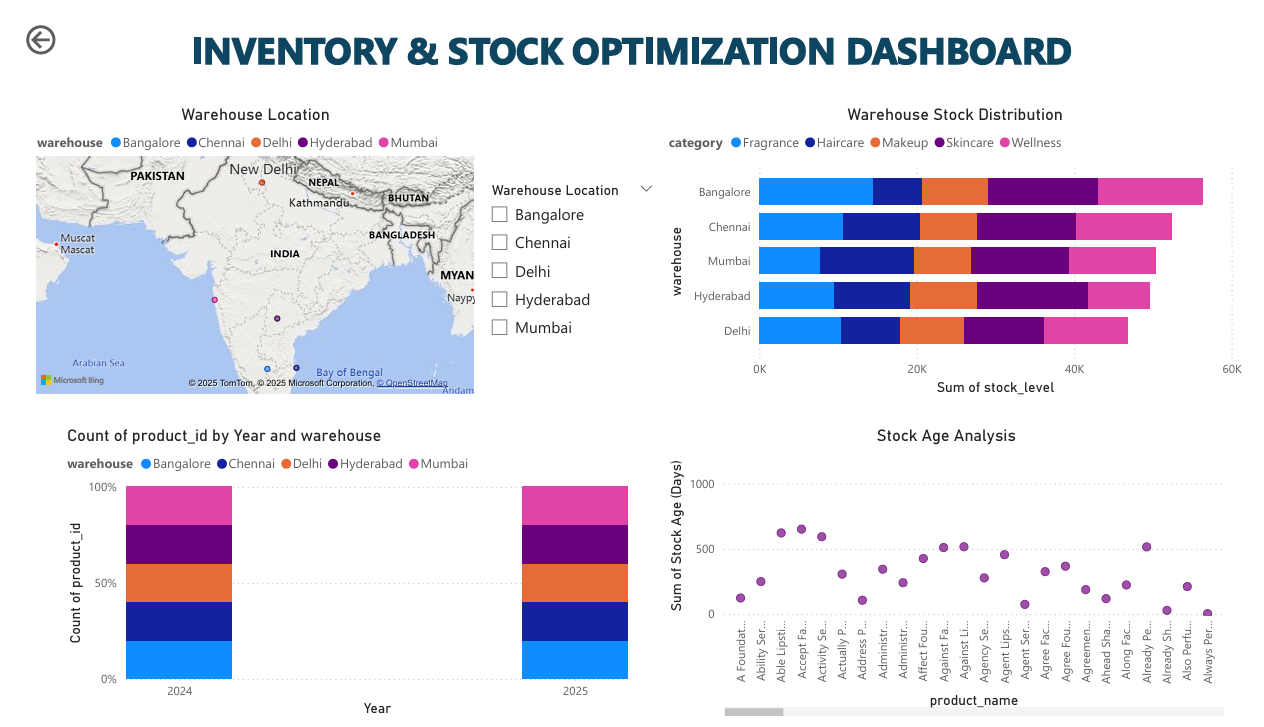

This screenshot's page, from the dashboard's own definition file:
{"tool":"powerbi","page":{"name":"Page 2","canvas":[1280,720],"ordinal":1},"visuals":[{"type":"textbox","box":[9.6,0,1224.1,75.5],"z":0},{"type":"tableEx","fields":{"Values":["products.product_name","Sum(inventory.stock_level)","inventory.is_critical_stock","inventory.restock_date.Variation.Date Hierarchy.Year","inventory.restock_date.Variation.Date Hierarchy.Quarter","inventory.restock_date.Variation.Date Hierarchy.Month","inventory.restock_date.Variation.Date Hierarchy.Day"]},"box":[42.4,75.7,617.8,331.6],"z":1000},{"type":"actionButton","box":[0,0,100,40],"z":2000},{"type":"barChart","title":"Warehouse Stock Distribution","fields":{"Category":["inventory.warehouse"],"Y":["Sum(inventory.stock_level)"],"Series":["products.category"]},"box":[660.2,86.3,598.1,302.8],"z":3000},{"type":"scatterChart","title":"Stock Age Analysis","fields":{"X":["products.product_name"],"Y":["Sum(inventory.Stock Age (Days))"]},"box":[660.2,416.4,579.9,302.8],"z":4000},{"type":"hundredPercentStackedColumnChart","fields":{"Category":["inventory.restock_date.Variation.Date Hierarchy.Year","inventory.restock_date.Variation.Date Hierarchy.Quarter","inventory.restock_date.Variation.Date Hierarchy.Month","inventory.restock_date.Variation.Date Hierarchy.Day"],"Y":["CountNonNull(products.product_id)"],"Series":["inventory.warehouse"]},"box":[42.4,416.4,586,302.8],"z":5000}]}

Visuals, with their boxes in screenshot pixels (x1, y1, x2, y2), scaled from the page's 1280x720 canvas onto the 1264x727 screenshot:
textbox: (x1=9, y1=0, x2=1218, y2=76)
tableEx - products.product_name x Sum(inventory.stock_level): (x1=42, y1=76, x2=652, y2=411)
actionButton: (x1=0, y1=0, x2=99, y2=40)
"Warehouse Stock Distribution" barChart: (x1=652, y1=87, x2=1243, y2=393)
"Stock Age Analysis" scatterChart: (x1=652, y1=420, x2=1225, y2=726)
hundredPercentStackedColumnChart - inventory.restock_date.Variation.Date Hierarchy.Year x inventory.restock_date.Variation.Date Hierarchy.Quarter: (x1=42, y1=420, x2=621, y2=726)
